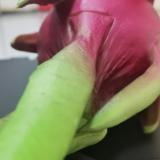pitaya: (12, 1, 160, 140)
